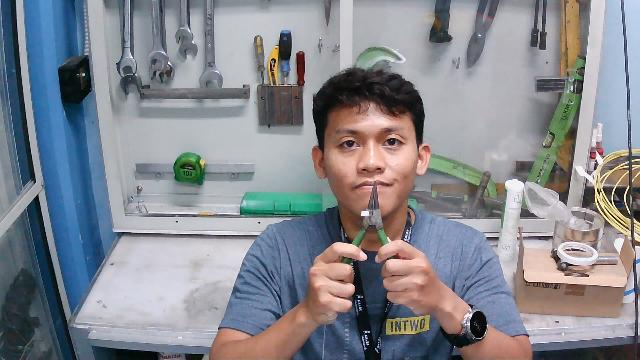tang_cucut_lancip_2: (333, 179, 407, 285)
